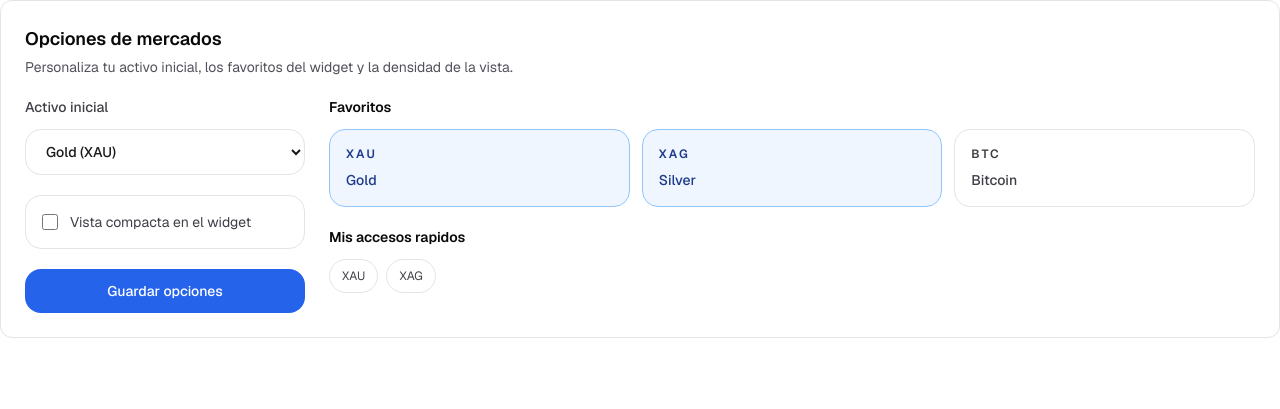
Test: MarketProfileWidget › loads preferences, updates them, and saves quick links
Expected: the heading "Opciones de mercados" is shown, [25,27,222,50]
Step 1. Select "Bitcoin (BTC)" in the dropdown labelled "Activo inicial" → (165, 152), box [25,129,305,175]
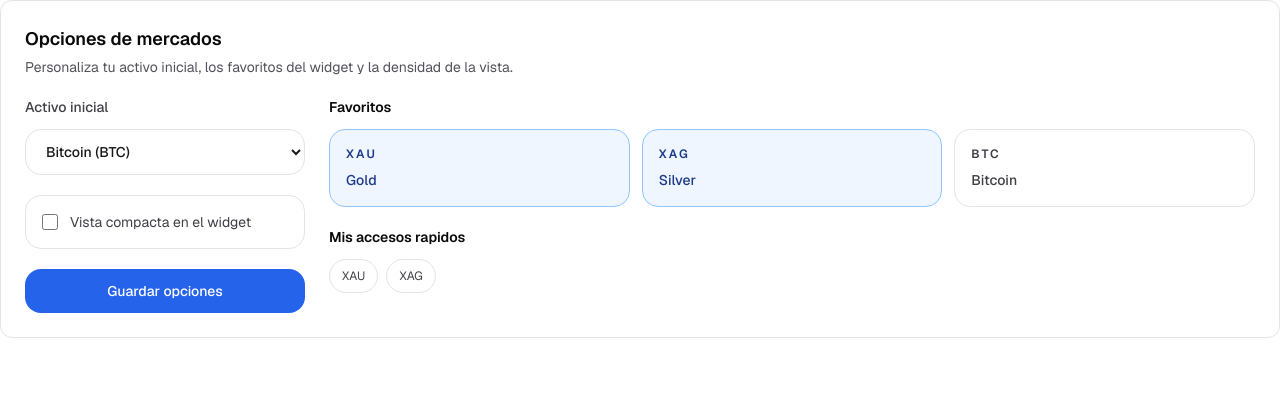
Step 2. Click the checkbox labelled "Vista compacta en el widget" → click(50, 222), box [42,214,58,230]
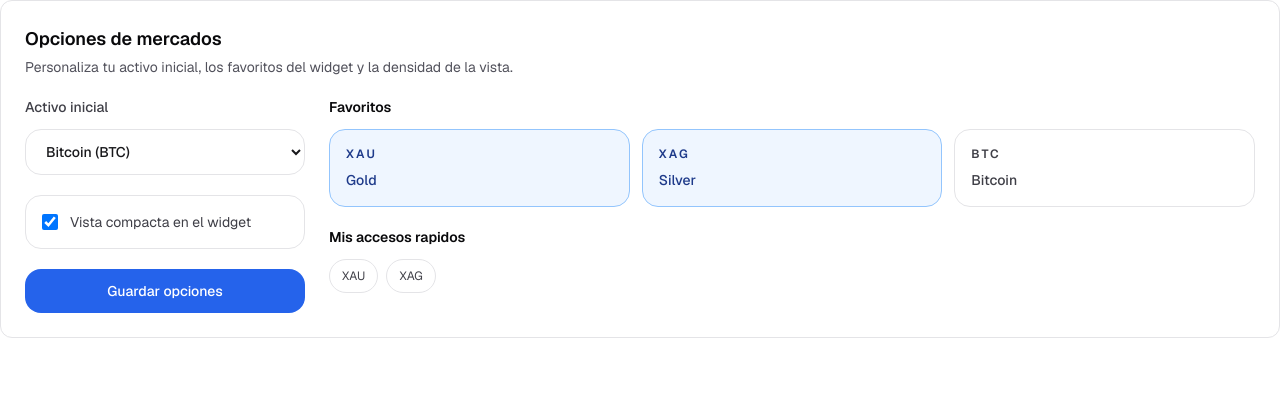
Step 3. Click the button "BTC Bitcoin" → click(994, 180), box [954,129,1255,207]
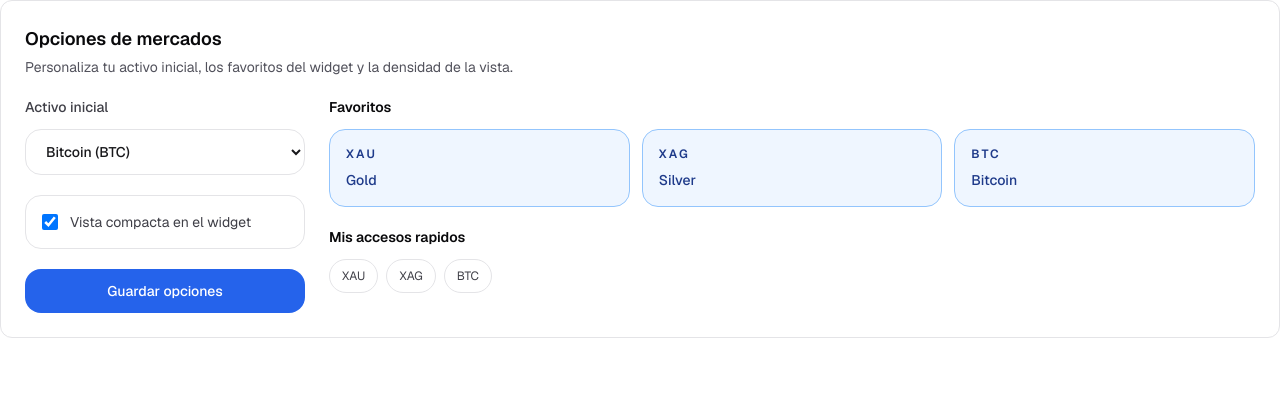
Step 4. Click the button "Guardar opciones" → click(165, 291), box [25,269,305,313]
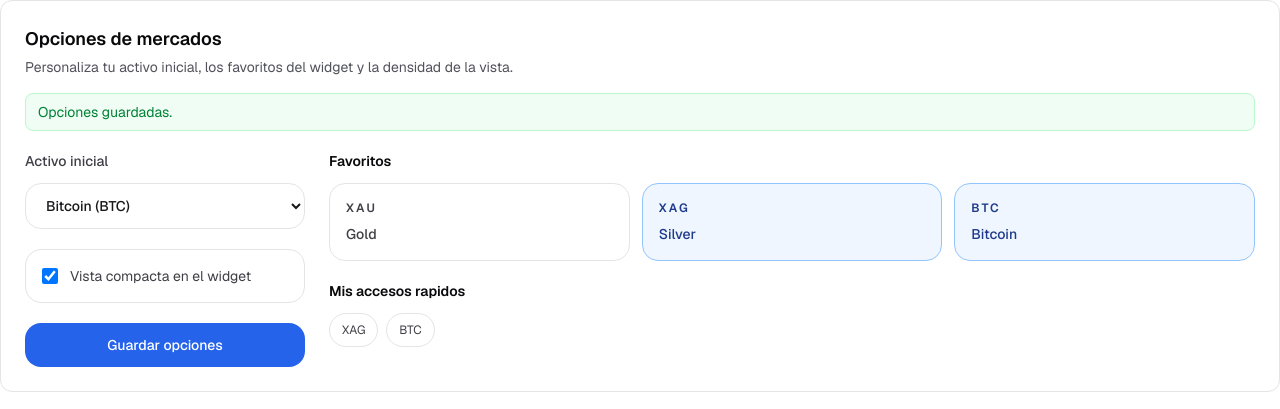
Result: the text "Opciones guardadas." is shown at [25,93,1255,131]
